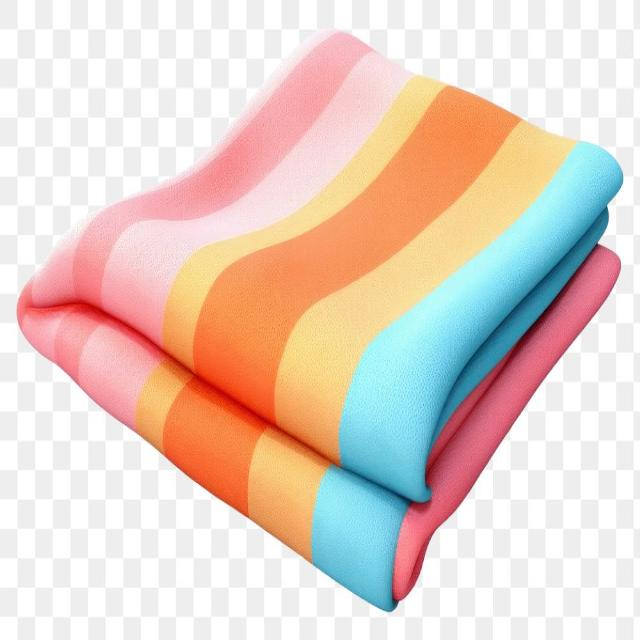blanket: (18, 31, 622, 608)
